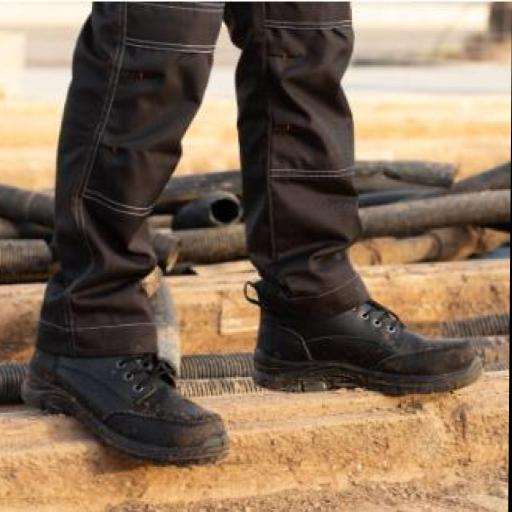safety_boots: (13, 327, 243, 480), (238, 305, 490, 414)
